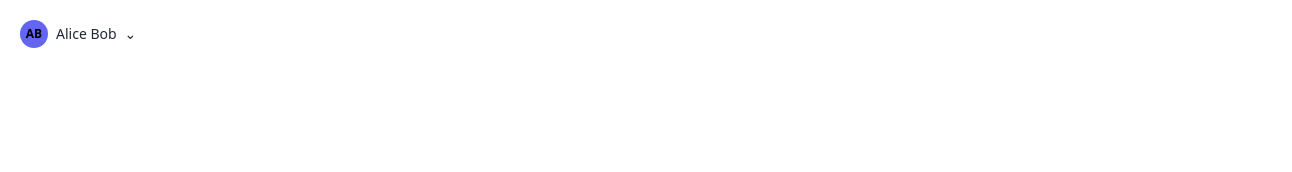
UserMenu › closes on an outside click
This screenshot has width=1292, height=172.
Step 1. Click the button → (78, 34), box [12, 12, 144, 56]
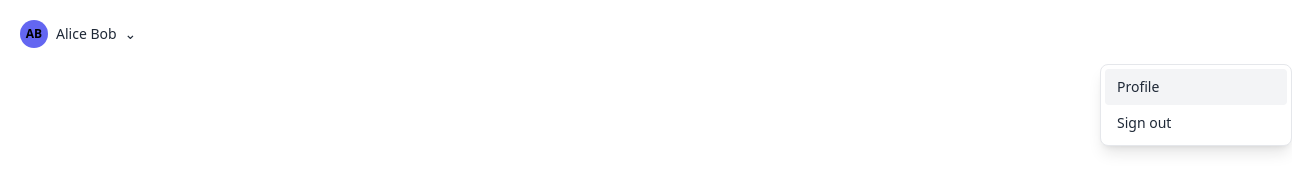
Step 2. Press the mouse on the element showing "AB Alice Bob ⌄ Profile Sign out" → (652, 34), box [12, 12, 1291, 56]
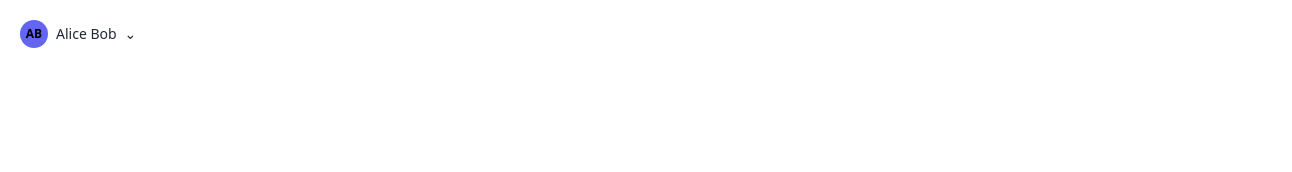
Result: the menu is gone
